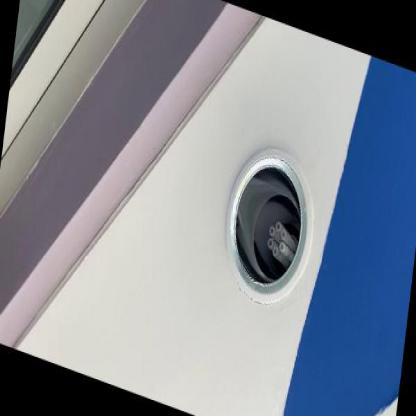light_off: (207, 97, 330, 334)
